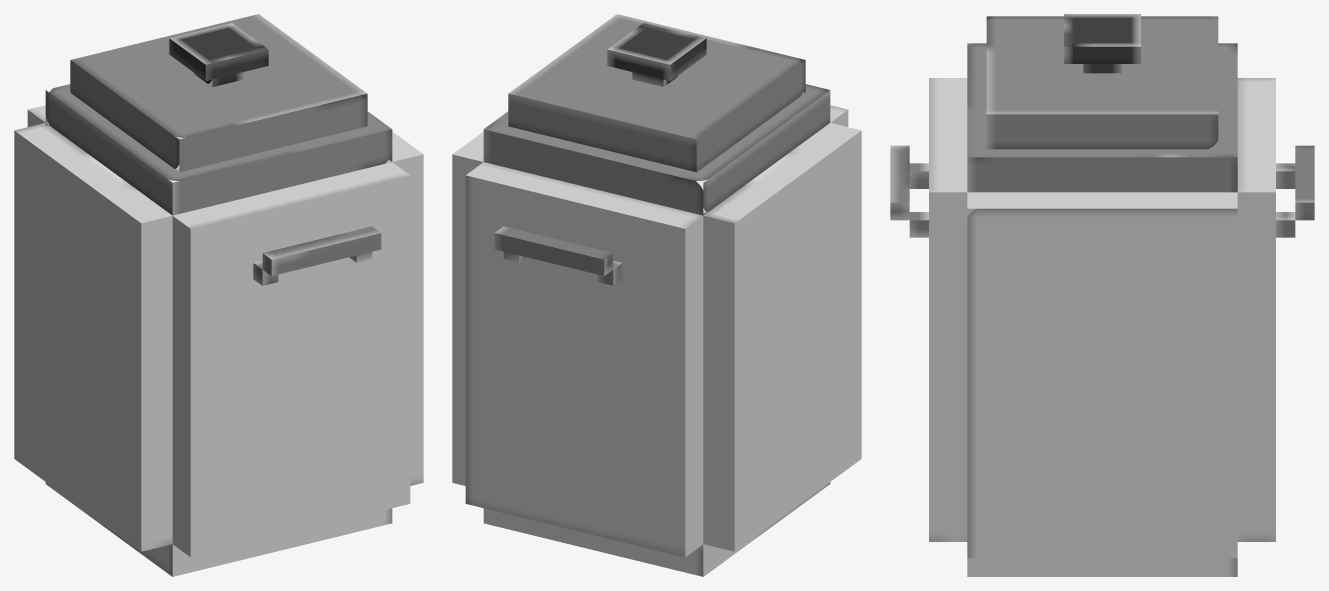
File: oala (cu capac).fbx
The picture shows the model from 3 angles, left to right: view 1: azimuth 30°, elevation 25°; view 2: azimuth 150°, elevation 25°; view 3: azimuth 270°, elevation 25°; orthographic projection. The views are drawn at different scales.
Visible parts, largest first — view 1: cube_3, cube_2, cube_12, cube_11, cube_1, cube, cube_14, cube_8; view 2: cube_4, cube_2, cube_12, cube_11, cube_1, cube, cube_14, cube_10; view 3: cube_1, cube_12, cube_3, cube_4, cube_11, cube, cube_14, cube_8, cube_10.
Boxes of the visible parts, x1,y1,x2,y2 form: cube_3: (172, 162, 410, 557); cube_2: (14, 123, 172, 551); cube_12: (70, 14, 367, 172); cube_11: (45, 84, 392, 215); cube_1: (392, 132, 423, 485); cube: (45, 482, 392, 576); cube_14: (169, 23, 268, 80); cube_8: (262, 226, 381, 275); cube_4: (465, 162, 703, 557); cube_2: (703, 123, 861, 551); cube_12: (508, 14, 805, 172); cube_11: (483, 84, 830, 215); cube_1: (452, 132, 483, 485); cube: (483, 482, 830, 576); cube_14: (607, 23, 706, 80); cube_10: (494, 226, 613, 275); cube_1: (967, 192, 1237, 558); cube_12: (986, 16, 1218, 149); cube_3: (929, 78, 967, 541); cube_4: (1237, 78, 1275, 541); cube_11: (967, 43, 1237, 192); cube: (967, 558, 1237, 576); cube_14: (1064, 14, 1140, 63); cube_8: (890, 145, 909, 220); cube_10: (1295, 145, 1314, 220).
Bounding box in the file's own units: 112 × 175 × 138.
Materials: 1 (1 with a texture image).
